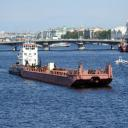tugboat: (9, 41, 43, 78)
